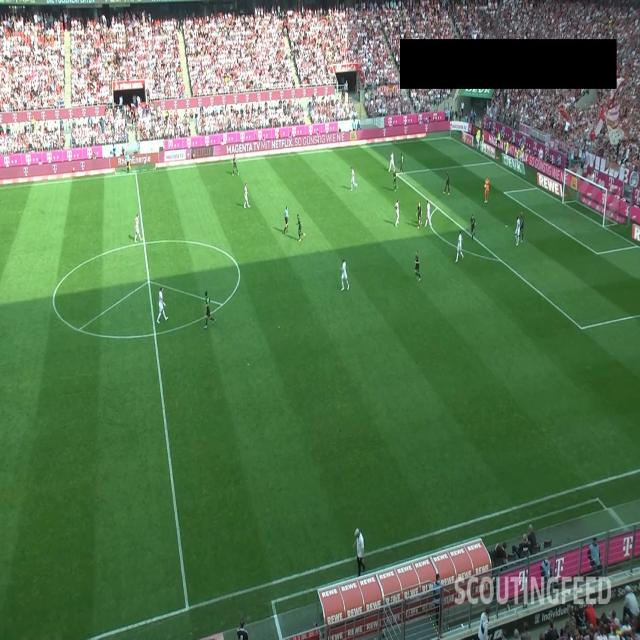ball: (484, 184, 487, 188)
